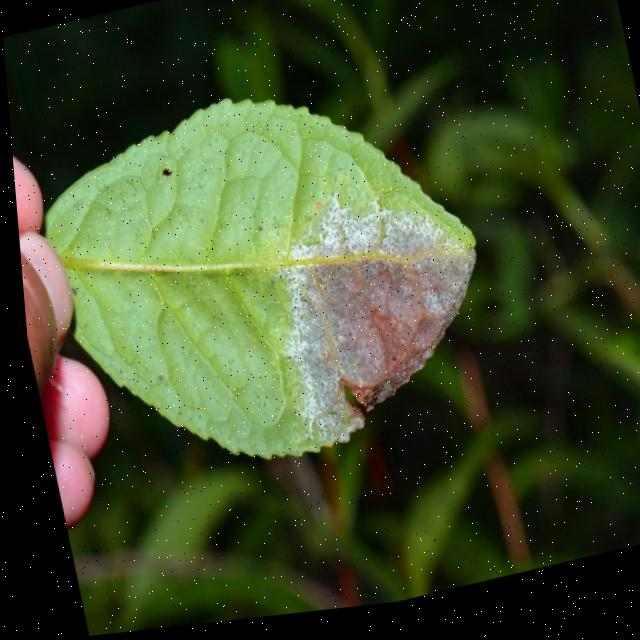Tea exobasidium blight: (261, 192, 492, 466)
